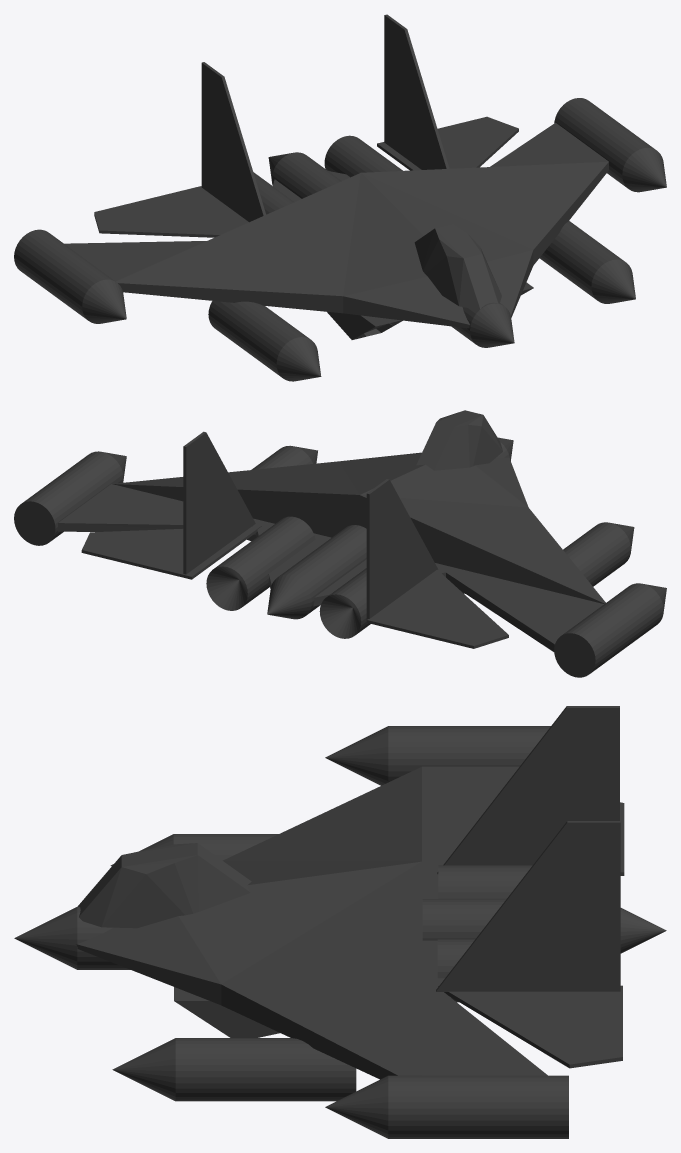
The model's file is fighter1.obj.
3 views of the same model, one above another, from view 1: azimuth 30°, elevation 25°; view 2: azimuth 150°, elevation 25°; view 3: azimuth 270°, elevation 25° (orthographic). The views are drawn at different scales.
Parts seen in each view (by area): view 1: fighter; view 2: fighter; view 3: fighter.
Part boxes in pixels (<box>): fighter: <box>14,14,666,381</box>; fighter: <box>14,410,666,677</box>; fighter: <box>14,706,666,1138</box>.
Bounding box in the file's own units: 1.27 × 0.3756 × 0.9306.
Materials: 1 (1 with a texture image).
